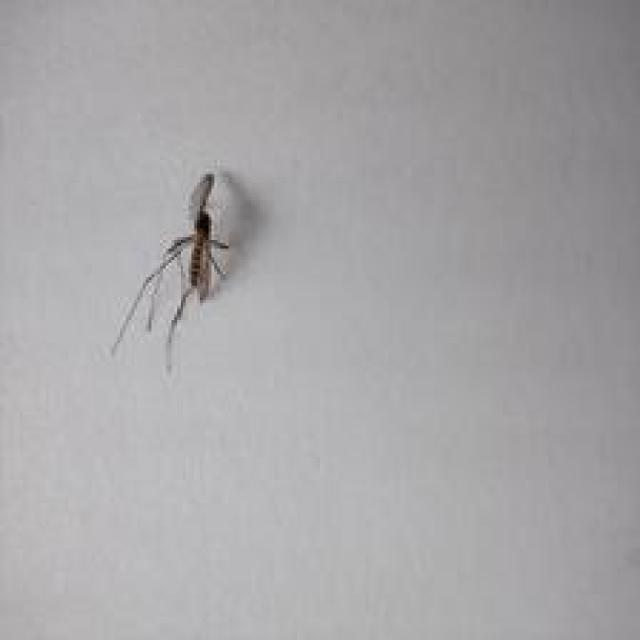Culex: (110, 170, 233, 376)
